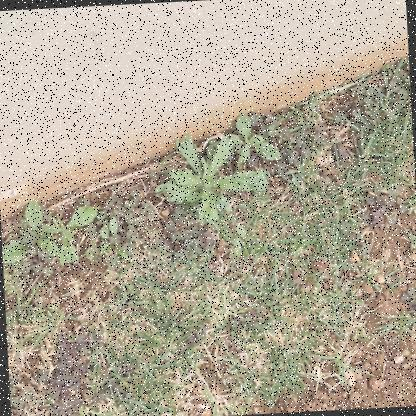Weeds: (154, 131, 272, 226), (37, 201, 102, 265), (218, 108, 285, 168), (0, 199, 59, 265)
